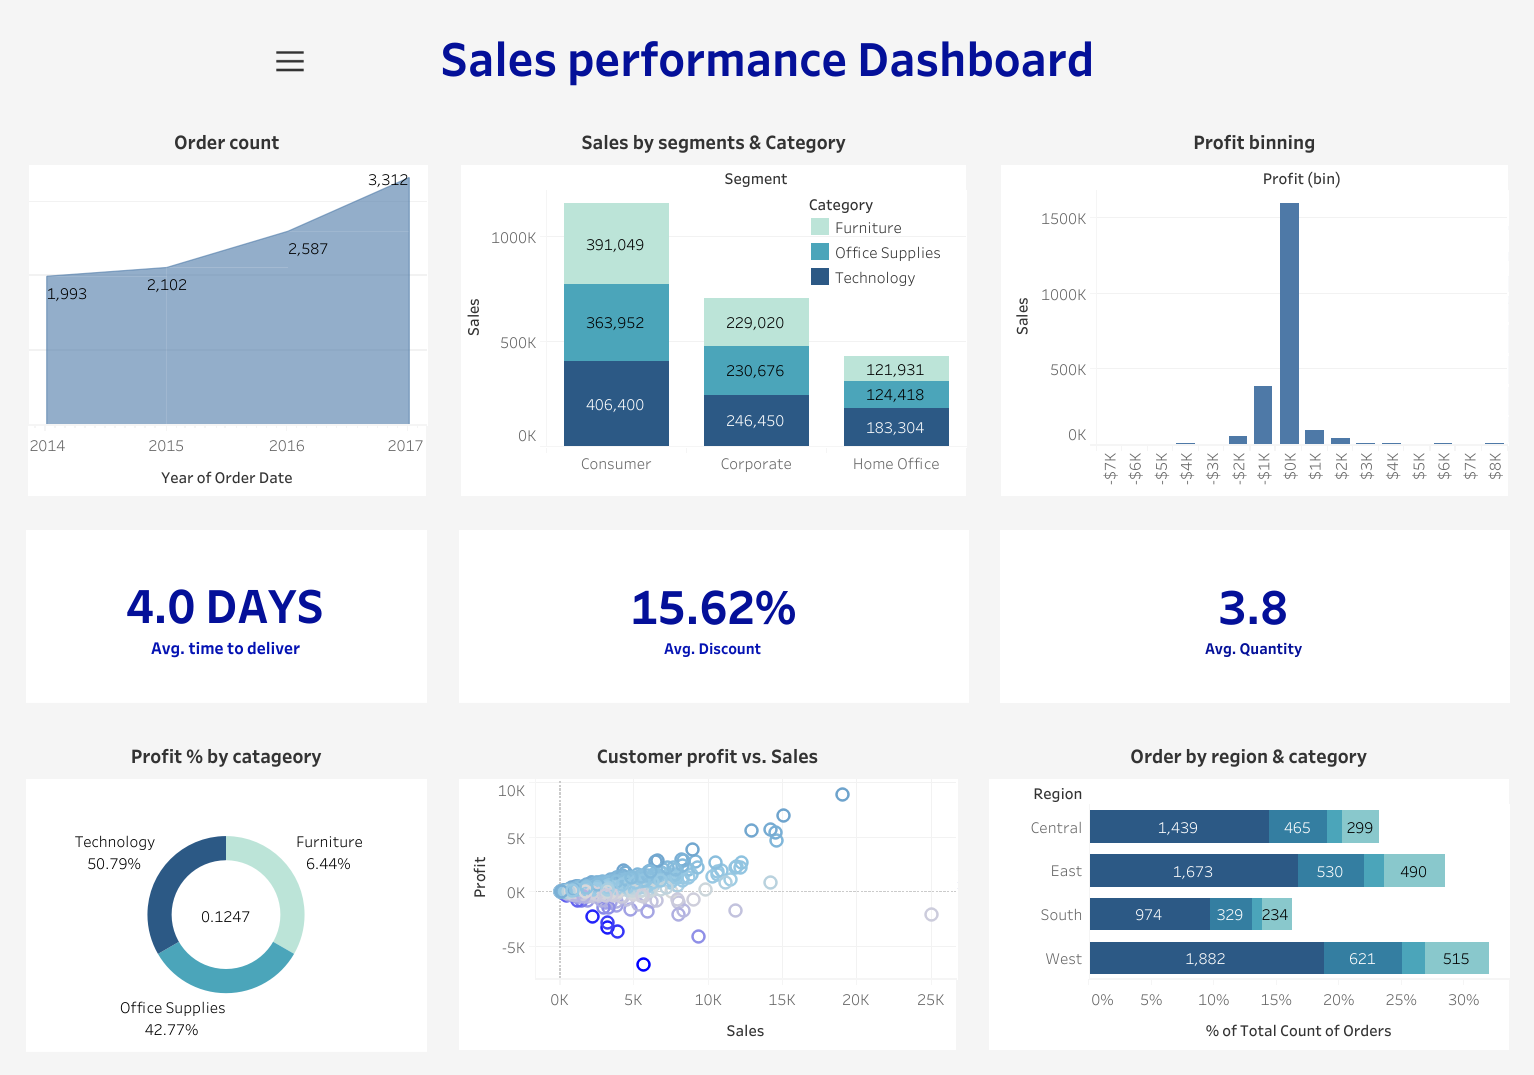

The dashboard page shown, as its layout file describes it:
{"tool":"tableau","page":{"name":"Dashboard 1","canvas":[1228,861],"ordinal":0},"visuals":[{"type":"text","box":[8,8,1212,73.8]},{"type":"filter","title":"Order count","param":"[federated.0jsj2un1c4ficu1ar3sgk16euh6r].[none:Order Date:qk]","box":[24,16,122,48]},{"type":"dashboard-object","box":[220,37,24,24]},{"type":"worksheet","title":"Order count","mark":"Area","rows":["Orders_D2D9DC6545DC476DB260C96302F0F739"],"cols":["Order Date"],"box":[8,81.8,347.2,329.2]},{"type":"worksheet","title":"Sales by segments & Category","mark":"Automatic","rows":["Sales"],"cols":["Segment"],"box":[355.2,81.8,431.8,329.2]},{"type":"worksheet","title":"Profit binning","mark":"Automatic","rows":["Sales"],"cols":["Profit (bin)"],"box":[787,81.8,433,329.2]},{"type":"legend","title":"Sales by segments & Category","param":"[federated.0jsj2un1c4ficu1ar3sgk16euh6r].[none:Category:nk]","box":[646,152,123,79]},{"type":"worksheet","title":"KPI","mark":"Automatic","box":[8,411,346.5,162.8]},{"type":"worksheet","title":"Discount","mark":"Automatic","box":[354.5,411,432.8,162.8]},{"type":"worksheet","title":"Quantity","mark":"Automatic","box":[787.2,411,432.8,162.8]},{"type":"worksheet","title":"Profit % by catageory","mark":"Pie","rows":["Calculation_3198681655445565444","Calculation_3198681655445565444"],"box":[8,573.8,346.3,279.2]},{"type":"worksheet","title":"Customer profit vs. Sales","mark":"Automatic","rows":["Profit"],"cols":["Sales"],"box":[354.3,573.8,427.4,279.2]},{"type":"worksheet","title":"Order by region & category","mark":"Automatic","rows":["Region"],"cols":["Orders_D2D9DC6545DC476DB260C96302F0F739"],"box":[781.6,573.8,438.4,279.2]}]}

Visuals, with their boxes in screenshot pixels (x1, y1, x2, y2), scaled from the page's 1228x861 canvas onto the 1534x1075 screenshot:
text: bbox=[10, 10, 1524, 102]
"Order count" filter: bbox=[30, 20, 182, 80]
dashboard-object: bbox=[275, 46, 305, 76]
"Order count" worksheet (Area marks): bbox=[10, 102, 444, 513]
"Sales by segments & Category" worksheet: bbox=[444, 102, 983, 513]
"Profit binning" worksheet: bbox=[983, 102, 1524, 513]
"Sales by segments & Category" legend: bbox=[807, 190, 961, 288]
"KPI" worksheet: bbox=[10, 513, 443, 716]
"Discount" worksheet: bbox=[443, 513, 983, 716]
"Quantity" worksheet: bbox=[983, 513, 1524, 716]
"Profit % by catageory" worksheet (Pie marks): bbox=[10, 716, 443, 1065]
"Customer profit vs. Sales" worksheet: bbox=[443, 716, 976, 1065]
"Order by region & category" worksheet: bbox=[976, 716, 1524, 1065]
